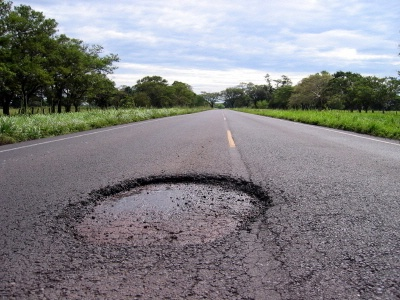pothole: (62, 165, 290, 250)
